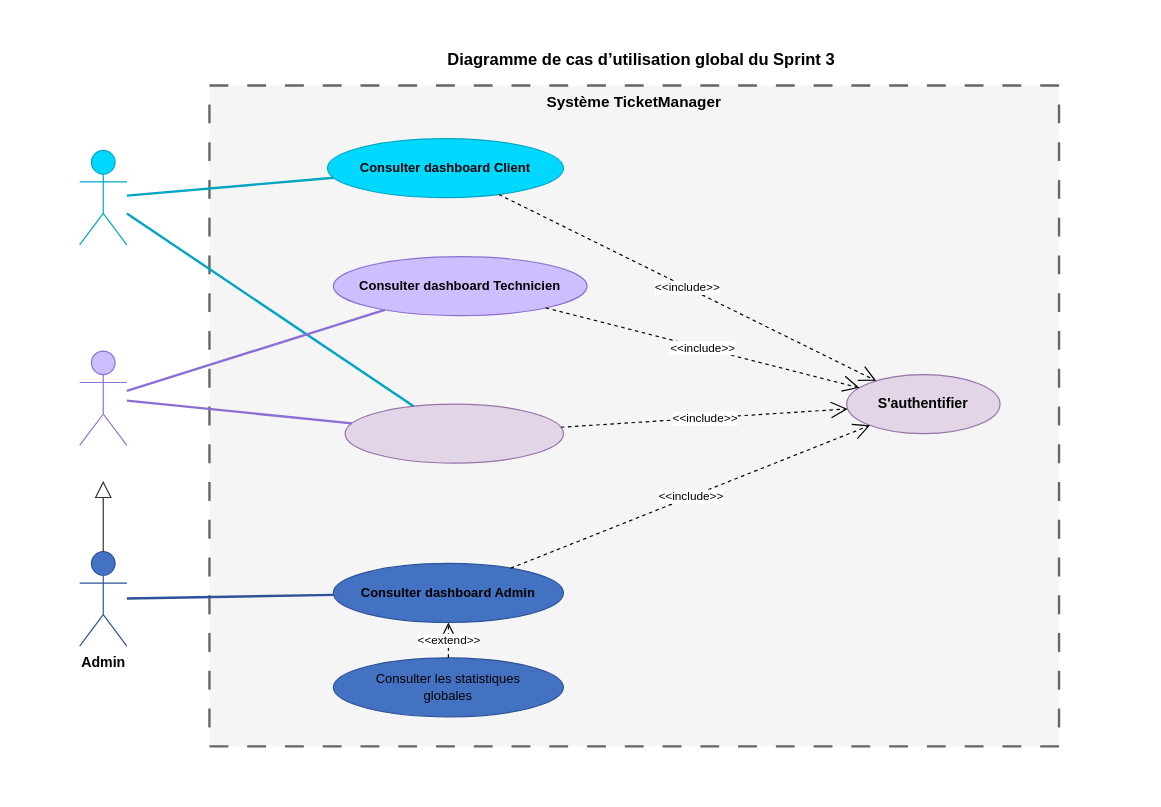
This 1161x807 diagram has some shape labels left out. The centre of each missing label's shape, as x and y in pixels:
"Client" goes at point 102,197.
"Consulter Notifications" goes at point 453,433.
"Technicien" goes at point 102,397.
